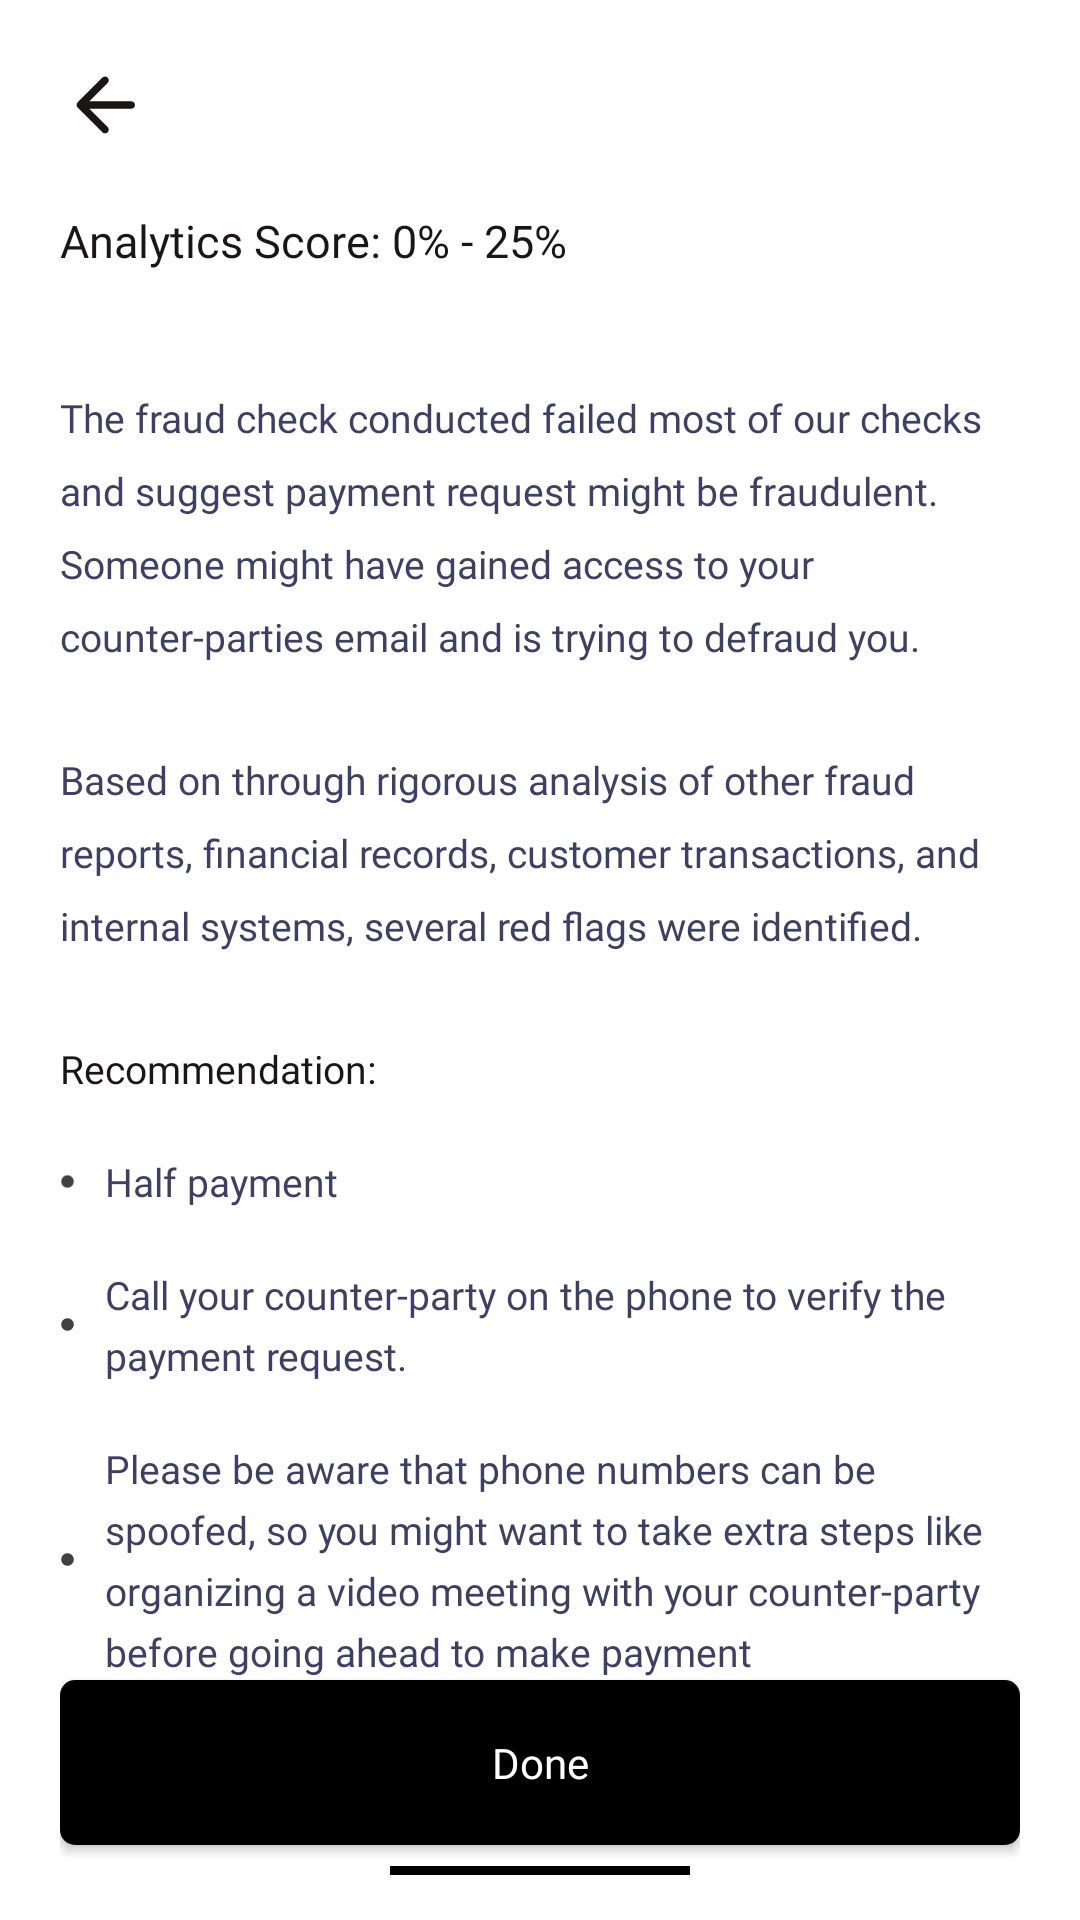

Icon bounding boxes for this 1080x1920 phone screenshot, format (x1, y1, x2, y2):
arrow left: (76, 76, 135, 134)
